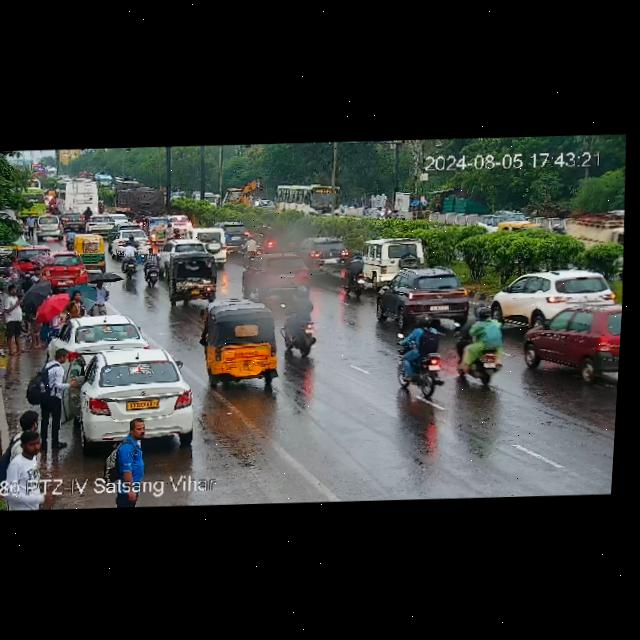bus: (275, 182, 348, 219)
car: (44, 345, 204, 450), (514, 299, 621, 382), (198, 299, 291, 387), (376, 268, 477, 324), (488, 267, 622, 307), (53, 314, 150, 358), (360, 236, 434, 284), (241, 247, 311, 297), (159, 254, 222, 301), (39, 251, 90, 287), (302, 234, 345, 272), (178, 227, 231, 257), (63, 232, 108, 267), (109, 226, 148, 260), (152, 214, 193, 236), (105, 221, 137, 248), (148, 216, 178, 242), (33, 214, 63, 239), (59, 211, 84, 233), (83, 215, 114, 232), (111, 212, 130, 223)
motorcycle: (452, 306, 505, 386), (392, 313, 443, 393), (281, 284, 319, 357), (340, 254, 365, 293), (118, 242, 142, 278), (237, 232, 262, 266), (142, 246, 162, 287), (64, 227, 76, 250), (66, 226, 76, 250), (552, 221, 566, 235), (127, 232, 140, 246), (134, 212, 146, 227), (81, 205, 92, 221), (383, 204, 394, 220), (374, 207, 385, 220), (391, 208, 402, 220), (48, 197, 56, 212), (99, 198, 105, 213), (362, 207, 369, 219)
person: (32, 349, 80, 429), (104, 420, 159, 483), (0, 438, 46, 490), (0, 283, 30, 350), (84, 279, 112, 316), (64, 288, 89, 319), (14, 214, 36, 238)
truck: (564, 207, 624, 242), (50, 177, 104, 214), (115, 185, 174, 216), (219, 175, 268, 205), (500, 219, 540, 234), (476, 213, 500, 230)
